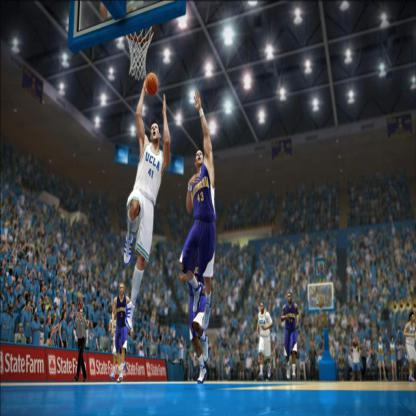face: (151, 124, 160, 140), (197, 150, 204, 164), (121, 286, 125, 294), (412, 314, 415, 322), (28, 302, 31, 310), (81, 310, 84, 317), (51, 331, 54, 338), (20, 326, 23, 333), (289, 294, 292, 300), (261, 304, 264, 310), (87, 319, 89, 326), (380, 337, 382, 343), (65, 313, 67, 319), (12, 287, 14, 293), (40, 297, 42, 303), (4, 260, 6, 266), (18, 284, 20, 290), (29, 257, 31, 263), (49, 312, 51, 318), (31, 336, 33, 342), (12, 310, 14, 316), (392, 338, 394, 343), (37, 315, 39, 320), (20, 296, 22, 301), (58, 292, 60, 297), (39, 272, 41, 277), (95, 305, 97, 310), (103, 323, 105, 328), (100, 319, 102, 324), (6, 283, 8, 287), (3, 296, 5, 300), (65, 283, 67, 287), (44, 304, 45, 310), (32, 316, 34, 319), (73, 304, 74, 310), (3, 270, 4, 275)
